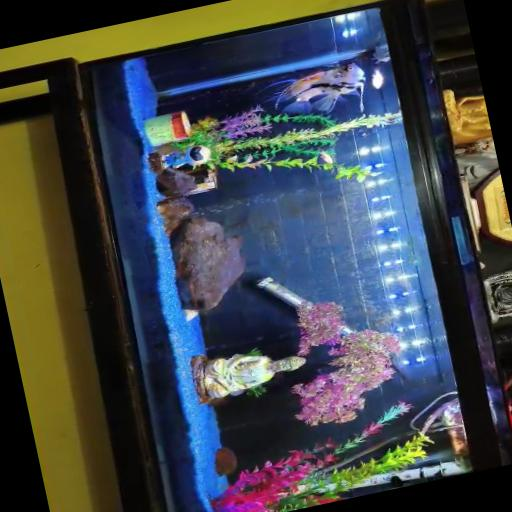Fish: (264, 63, 364, 114)
